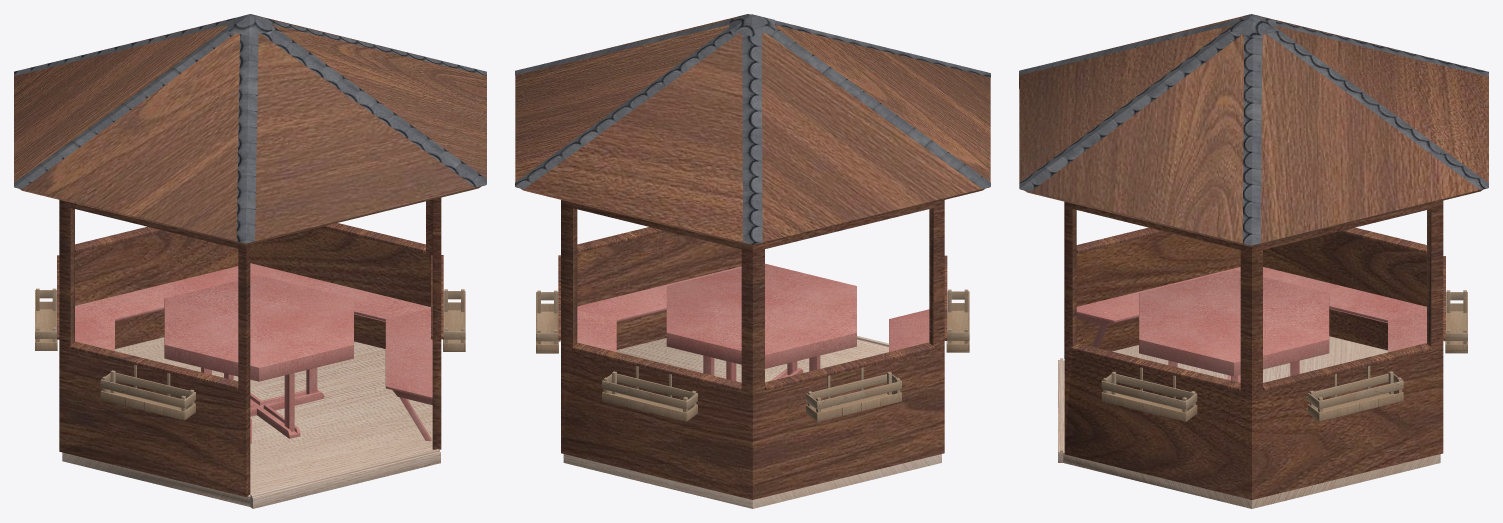
File: Arbour.obj
3 renders of one model, left to right at view 1: azimuth 30°, elevation 25°; view 2: azimuth 150°, elevation 25°; view 3: azimuth 270°, elevation 25°, orthographic.
Visible parts, largest first — view 1: Arbour, Arbour_floor, Arbour_table, Arbour_roof_onlay, Arbour_seats, Arbour_boxes; view 2: Arbour, Arbour_table, Arbour_roof_onlay, Arbour_boxes, Arbour_floor, Arbour_seats; view 3: Arbour, Arbour_table, Arbour_roof_onlay, Arbour_boxes, Arbour_floor, Arbour_seats.
Boxes of the visible parts, left/top/right/bottom form: Arbour: left=14, top=16, right=486, bottom=497; Arbour_floor: left=62, top=337, right=440, bottom=508; Arbour_table: left=164, top=275, right=353, bottom=438; Arbour_roof_onlay: left=14, top=14, right=486, bottom=243; Arbour_seats: left=75, top=263, right=432, bottom=443; Arbour_boxes: left=35, top=288, right=465, bottom=420; Arbour: left=515, top=17, right=990, bottom=499; Arbour_table: left=666, top=263, right=856, bottom=380; Arbour_roof_onlay: left=515, top=14, right=990, bottom=244; Arbour_boxes: left=536, top=289, right=969, bottom=421; Arbour_floor: left=563, top=336, right=941, bottom=508; Arbour_seats: left=577, top=266, right=929, bottom=351; Arbour: left=1019, top=16, right=1488, bottom=499; Arbour_table: left=1139, top=270, right=1329, bottom=382; Arbour_roof_onlay: left=1019, top=14, right=1488, bottom=245; Arbour_boxes: left=1101, top=290, right=1467, bottom=421; Arbour_floor: left=1058, top=336, right=1440, bottom=508; Arbour_seats: left=1076, top=267, right=1426, bottom=352.
Bounding box in the file's own units: 3.5 × 2.82 × 3.
6 materials, 6 textured.
